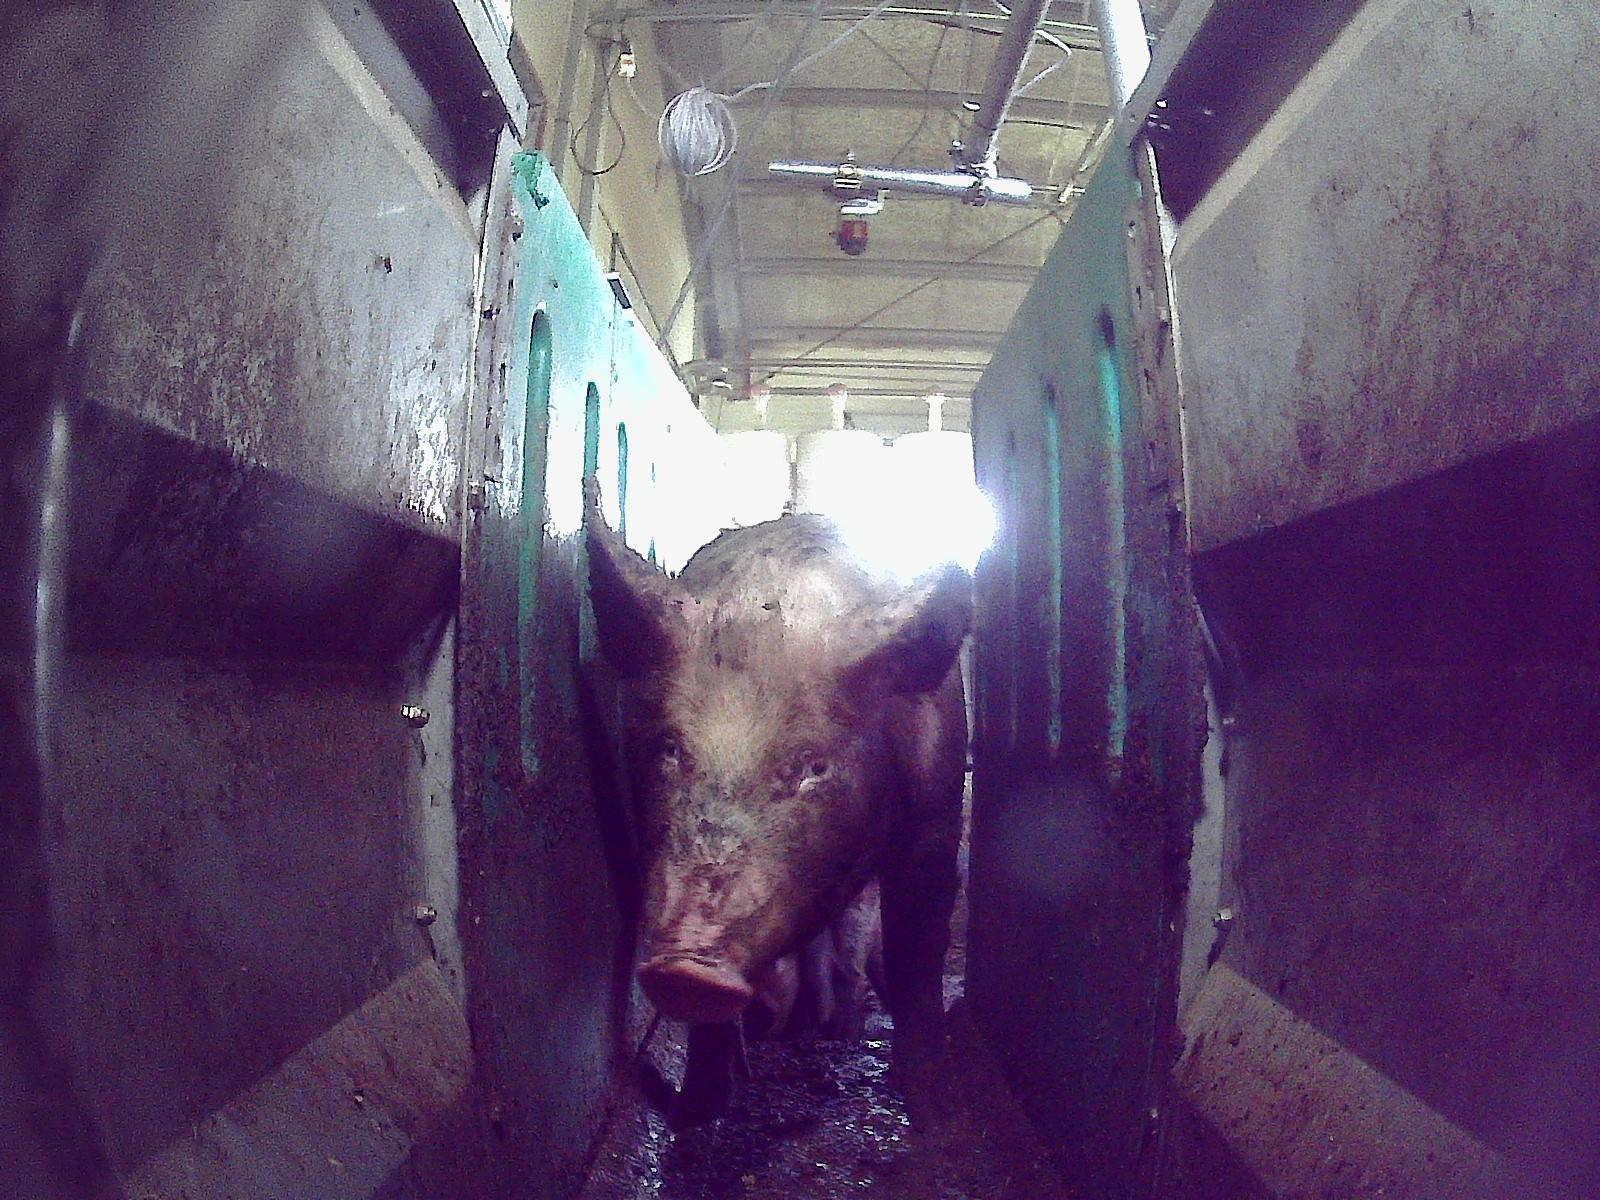Face: (636, 616, 884, 1023)
